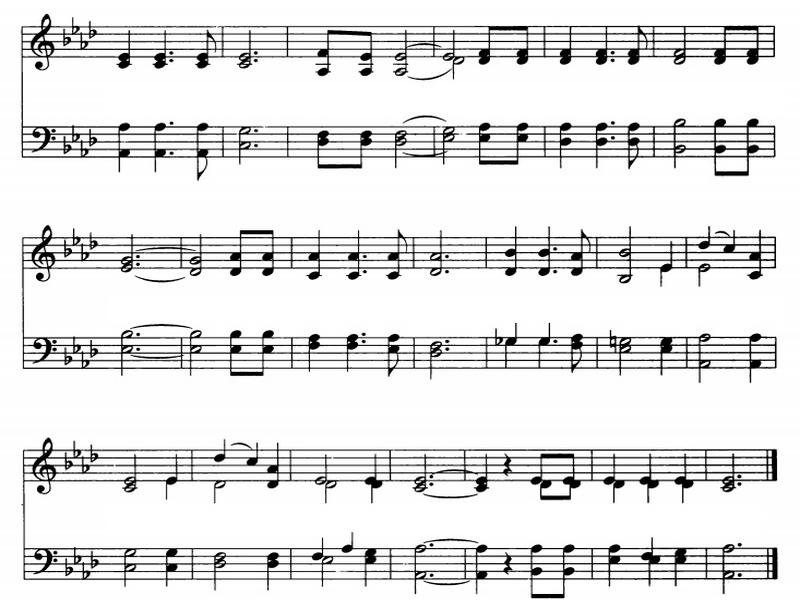B: (610, 219, 642, 291), (373, 119, 417, 168), (696, 321, 722, 390), (117, 441, 144, 504), (430, 115, 460, 169), (107, 321, 134, 381), (423, 223, 447, 283), (385, 22, 408, 84), (183, 325, 208, 379), (713, 544, 736, 600), (671, 6, 691, 69), (203, 539, 228, 588), (666, 117, 692, 164), (417, 335, 442, 382), (722, 439, 741, 500), (230, 116, 251, 169), (229, 26, 252, 72), (114, 228, 137, 273), (414, 534, 430, 597), (617, 332, 638, 378), (117, 547, 137, 594), (311, 444, 334, 480), (206, 473, 231, 505), (189, 238, 206, 283), (417, 444, 430, 500), (442, 33, 462, 61), (322, 476, 341, 504), (691, 262, 712, 285), (325, 555, 343, 579), (447, 61, 468, 72)
Bem: (58, 235, 76, 262), (58, 133, 74, 158), (87, 444, 102, 468), (87, 543, 101, 568), (87, 228, 99, 255), (71, 334, 84, 358), (67, 231, 84, 249), (87, 16, 99, 41), (58, 554, 71, 575), (488, 327, 503, 345), (69, 545, 83, 564), (77, 564, 95, 578), (90, 331, 99, 357), (70, 122, 80, 144), (58, 30, 73, 44), (83, 130, 97, 145), (77, 461, 90, 476), (81, 37, 93, 52), (71, 438, 80, 458), (78, 357, 90, 370), (62, 350, 72, 365), (77, 249, 87, 263), (78, 143, 87, 157), (64, 454, 69, 473), (69, 20, 77, 31)
C: (180, 116, 216, 190), (704, 105, 734, 187), (740, 110, 767, 193), (375, 226, 413, 284), (501, 119, 537, 174), (299, 120, 334, 174), (226, 218, 256, 278), (568, 224, 597, 281), (617, 116, 645, 175), (346, 123, 376, 178), (704, 15, 737, 64), (217, 325, 244, 384), (548, 541, 575, 600), (519, 539, 545, 600), (381, 324, 409, 380), (309, 24, 338, 77), (186, 22, 217, 69), (262, 220, 284, 286), (470, 103, 492, 168), (470, 18, 500, 60), (563, 328, 587, 375), (525, 445, 552, 486), (353, 28, 378, 72), (255, 322, 274, 377), (745, 18, 767, 65), (627, 23, 652, 64), (511, 12, 529, 67), (563, 444, 580, 486), (534, 482, 555, 504), (565, 482, 583, 502)
CF: (22, 117, 56, 157), (30, 331, 57, 376), (30, 545, 60, 578)
CS: (22, 214, 53, 288), (31, 8, 56, 84), (26, 442, 58, 497)
N: (495, 221, 525, 285), (301, 221, 327, 287), (111, 113, 139, 174), (342, 220, 365, 293), (258, 439, 287, 488), (744, 326, 767, 387), (333, 328, 363, 374), (144, 115, 167, 174), (533, 212, 553, 277), (669, 543, 695, 592), (260, 544, 288, 587), (553, 119, 573, 177), (747, 219, 771, 266), (359, 536, 382, 585), (144, 22, 169, 67), (558, 22, 583, 67), (465, 545, 488, 593), (299, 330, 324, 374), (117, 24, 140, 70), (594, 12, 612, 69), (688, 217, 717, 251), (652, 233, 677, 270), (474, 450, 495, 494), (240, 433, 267, 465), (360, 443, 380, 486), (165, 533, 183, 580), (718, 224, 747, 253), (590, 119, 607, 168), (499, 336, 522, 371), (606, 544, 627, 582), (367, 479, 403, 501), (673, 442, 691, 483), (657, 330, 679, 362), (594, 452, 618, 481), (640, 444, 659, 480), (160, 454, 182, 485), (647, 548, 666, 582), (155, 476, 186, 496), (506, 317, 526, 346), (537, 321, 559, 346), (531, 336, 550, 364), (654, 262, 677, 283), (609, 479, 628, 504), (337, 534, 359, 554), (214, 439, 231, 463), (646, 477, 663, 501), (681, 474, 697, 499), (743, 260, 762, 279), (638, 536, 654, 558), (311, 545, 323, 563)
P: (734, 537, 751, 555), (547, 259, 565, 275), (437, 264, 456, 278), (357, 269, 374, 283), (133, 255, 146, 273), (609, 116, 624, 131), (607, 46, 621, 62), (358, 246, 371, 263), (425, 565, 436, 585), (163, 54, 179, 67), (425, 481, 440, 494), (128, 342, 144, 354), (607, 128, 619, 144), (734, 569, 749, 581), (443, 334, 454, 350), (250, 45, 262, 59), (164, 116, 177, 128), (548, 244, 561, 256), (249, 141, 261, 153), (442, 344, 455, 355), (429, 470, 440, 483), (439, 252, 451, 263), (133, 249, 145, 259), (170, 147, 180, 159), (167, 48, 177, 60), (735, 474, 746, 484), (133, 329, 143, 340), (733, 484, 745, 492), (255, 124, 263, 136), (253, 55, 261, 67), (430, 540, 439, 547), (611, 56, 618, 65)
SN: (496, 447, 517, 478), (502, 546, 517, 584)
SOS: (602, 328, 617, 352)
